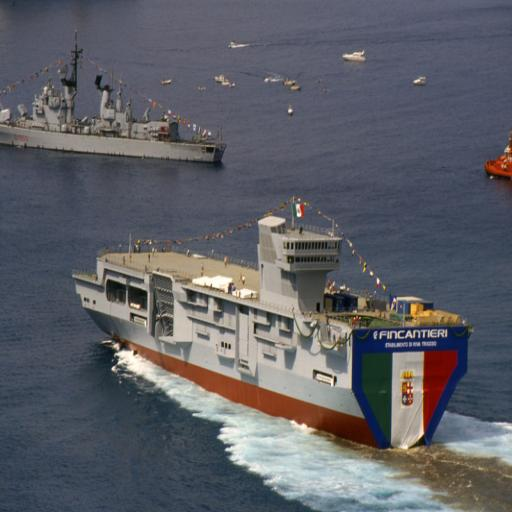Portanaves: (47, 184, 484, 474)
